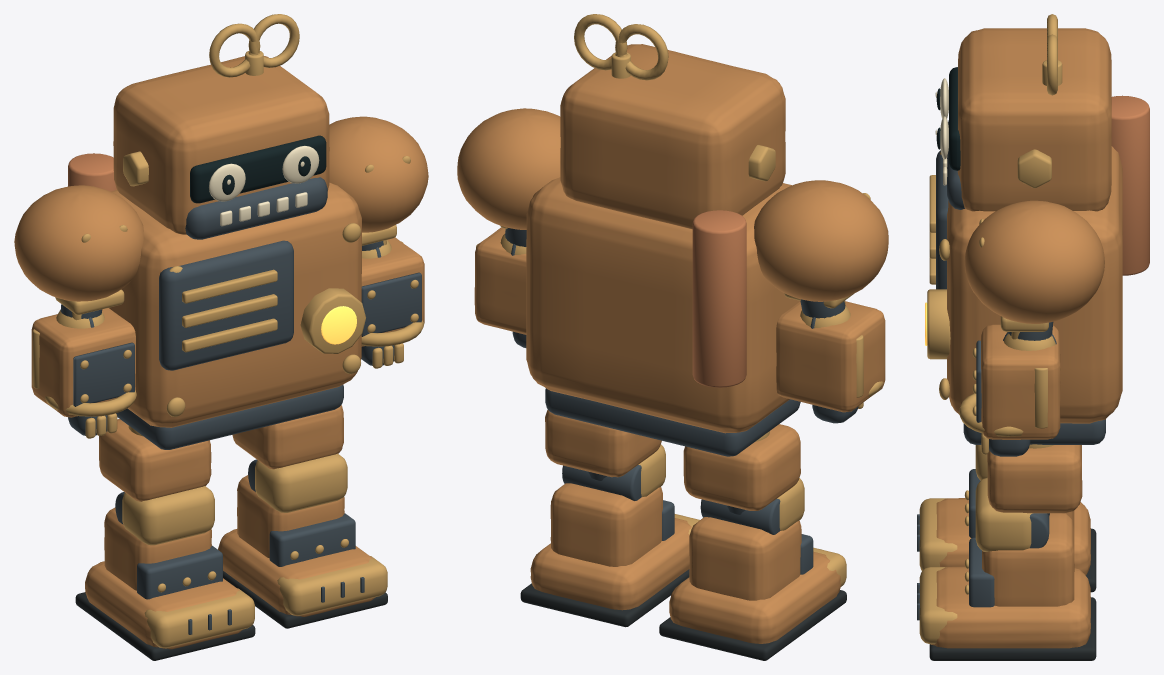
Rendered from scrapyard_bruiser.t2.glb.
The picture shows the model from 3 angles, left to right: view 1: azimuth 30°, elevation 25°; view 2: azimuth 150°, elevation 25°; view 3: azimuth 270°, elevation 25°; orthographic projection. The views are drawn at different scales.
Visible parts, largest first — view 1: slot_torso__clay_ochre_scrap__clay, slot_head__clay_ochre_scrap__clay, slot_torso__forged_bluelead_steel__protected, slot_legL__clay_ochre_scrap__clay, slot_legR__clay_ochre_scrap__clay, slot_armL__clay_ochre_scrap__clay, slot_armR__clay_ochre_scrap__clay, slot_legL__worn_warm_brass__protected, slot_legR__worn_warm_brass__protected, slot_torso__worn_warm_brass__protected, armL_elbow__clay_ochre_scrap__clay, slot_head__forged_bluelead_steel__protected (+18 smaller); view 2: slot_torso__clay_ochre_scrap__clay, slot_head__clay_ochre_scrap__clay, slot_legL__clay_ochre_scrap__clay, slot_legR__clay_ochre_scrap__clay, slot_armL__clay_ochre_scrap__clay, slot_torso__burnished_copper__protected, slot_armR__clay_ochre_scrap__clay, armL_elbow__clay_ochre_scrap__clay, slot_torso__forged_bluelead_steel__protected, armR_elbow__clay_ochre_scrap__clay, slot_head__worn_warm_brass__protected, slot_legL__charcoal_rubber__protected (+7 smaller); view 3: slot_head__clay_ochre_scrap__clay, slot_legR__clay_ochre_scrap__clay, slot_torso__clay_ochre_scrap__clay, slot_armR__clay_ochre_scrap__clay, armR_elbow__clay_ochre_scrap__clay, slot_torso__burnished_copper__protected, slot_legR__worn_warm_brass__protected, slot_legL__clay_ochre_scrap__clay, slot_torso__forged_bluelead_steel__protected, slot_torso__worn_warm_brass__protected, slot_legR__charcoal_rubber__protected, slot_head__worn_warm_brass__protected (+12 smaller).
Part boxes in pixels (x1,y1,x2,y2): slot_torso__clay_ochre_scrap__clay: (109,182,361,427); slot_head__clay_ochre_scrap__clay: (113,56,329,234); slot_torso__forged_bluelead_steel__protected: (116,240,343,449); slot_legL__clay_ochre_scrap__clay: (85,419,242,649); slot_legR__clay_ochre_scrap__clay: (218,405,375,616); slot_armL__clay_ochre_scrap__clay: (14,185,143,301); slot_armR__clay_ochre_scrap__clay: (329,116,428,232); slot_legL__worn_warm_brass__protected: (122,426,254,648); slot_legR__worn_warm_brass__protected: (255,453,387,615); slot_torso__worn_warm_brass__protected: (166,223,365,416); armL_elbow__clay_ochre_scrap__clay: (31,308,135,417); slot_head__forged_bluelead_steel__protected: (185,177,327,239); slot_torso__clay_ochre_scrap__clay: (526,177,799,433); slot_head__clay_ochre_scrap__clay: (560,44,785,229); slot_legL__clay_ochre_scrap__clay: (669,424,841,643); slot_legR__clay_ochre_scrap__clay: (530,410,691,610); slot_armL__clay_ochre_scrap__clay: (754,180,888,301); slot_torso__burnished_copper__protected: (692,210,746,387); slot_armR__clay_ochre_scrap__clay: (457,108,560,229); armL_elbow__clay_ochre_scrap__clay: (776,301,885,412); slot_torso__forged_bluelead_steel__protected: (545,388,800,456); armR_elbow__clay_ochre_scrap__clay: (474,227,526,334); slot_head__worn_warm_brass__protected: (574,14,775,181); slot_legL__charcoal_rubber__protected: (659,590,846,660); slot_head__clay_ochre_scrap__clay: (957,28,1111,211); slot_legR__clay_ochre_scrap__clay: (931,445,1090,648); slot_torso__clay_ochre_scrap__clay: (947,146,1122,423); slot_armR__clay_ochre_scrap__clay: (964,200,1104,323); armR_elbow__clay_ochre_scrap__clay: (981,324,1060,439); slot_torso__burnished_copper__protected: (1111,95,1149,275); slot_legR__worn_warm_brass__protected: (919,444,1053,644); slot_legL__clay_ochre_scrap__clay: (936,498,1090,575); slot_torso__forged_bluelead_steel__protected: (936,150,1105,444); slot_torso__worn_warm_brass__protected: (927,151,950,399); slot_legR__charcoal_rubber__protected: (929,597,1096,660); slot_head__worn_warm_brass__protected: (1017,14,1062,188).
Size of the model in its own units: 1.99 by 2.7 by 0.9558.
